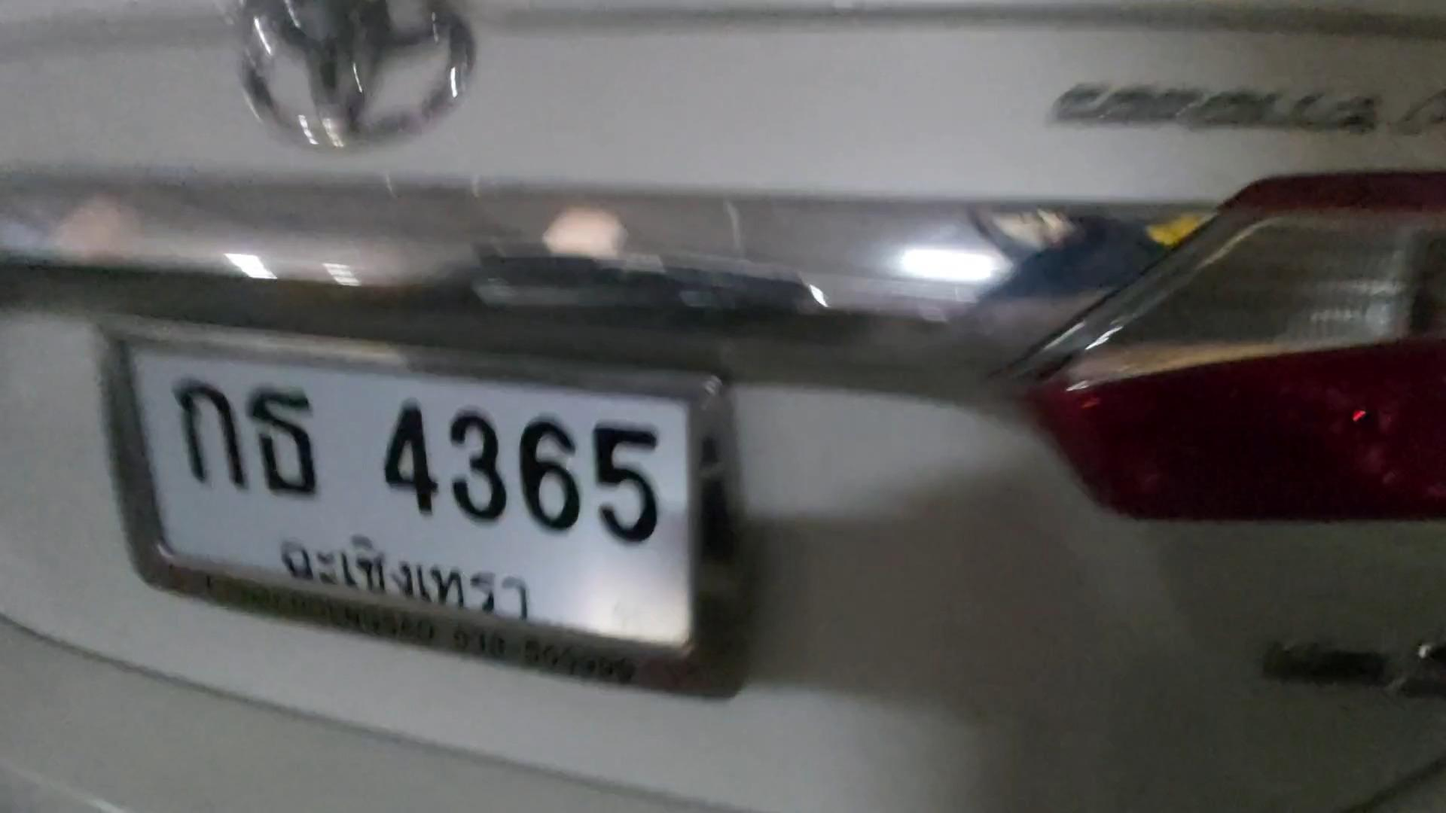license-plate: (122, 342, 691, 649)
